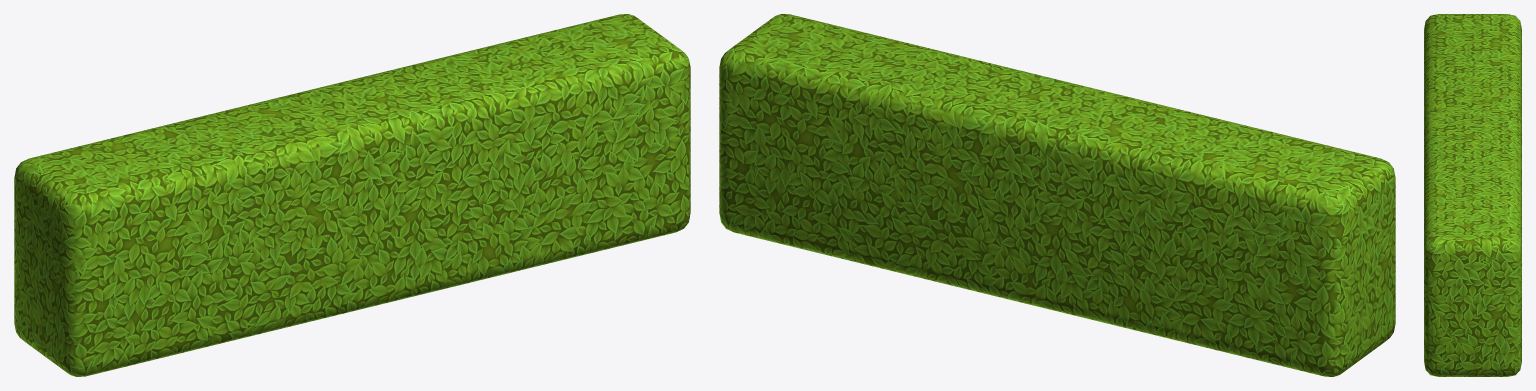
Rendered from Hedge01_1.FBX.
3 views of the same model, side by side, from view 1: azimuth 30°, elevation 25°; view 2: azimuth 150°, elevation 25°; view 3: azimuth 270°, elevation 25° (orthographic). The views are drawn at different scales.
Visible parts, largest first — view 1: Hedge01_1; view 2: Hedge01_1; view 3: Hedge01_1.
Boxes of the visible parts, x1=… form: Hedge01_1: x1=14, y1=14, x2=690, y2=376; Hedge01_1: x1=719, y1=14, x2=1395, y2=376; Hedge01_1: x1=1424, y1=14, x2=1521, y2=376.
Size of what is drawn, in the model's own units: 4.5 by 1.25 by 0.8.
